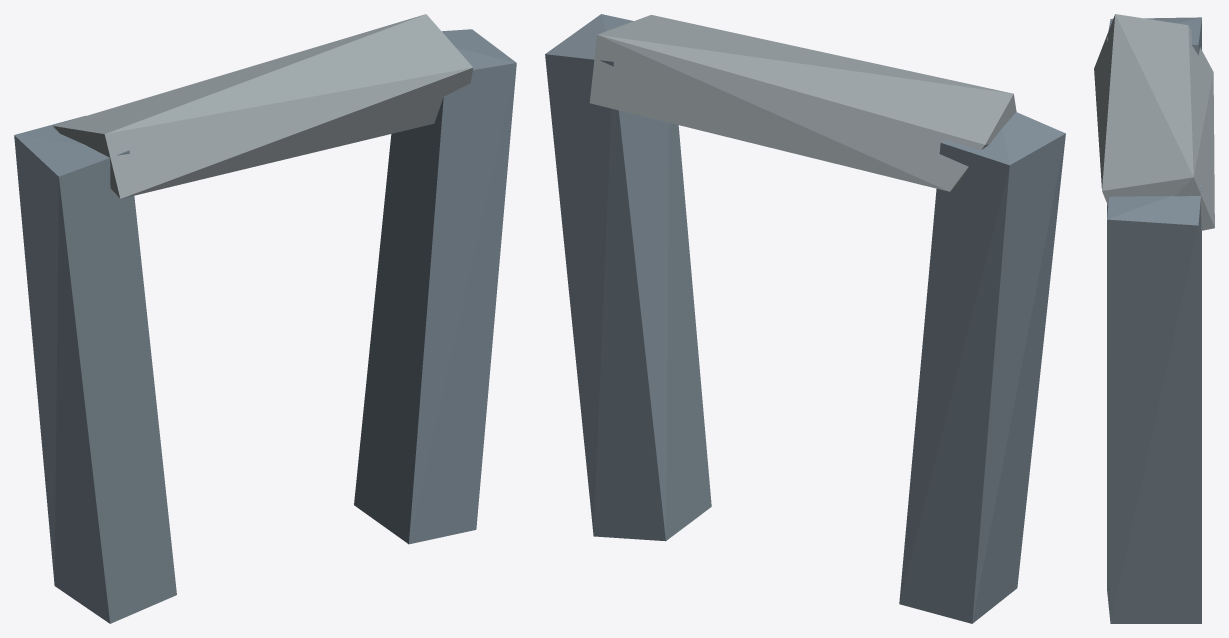
The model's file is Landmark_02_LOD2.fbx.
The picture shows the model from 3 angles, left to right: view 1: azimuth 30°, elevation 25°; view 2: azimuth 150°, elevation 25°; view 3: azimuth 270°, elevation 25°; orthographic projection. The views are drawn at different scales.
Visible parts, largest first — view 1: Landmark_02_LOD2; view 2: Landmark_02_LOD2; view 3: Landmark_02_LOD2.
Part boxes in pixels (x1,y1,x2,y2): Landmark_02_LOD2: (14,14,516,623); Landmark_02_LOD2: (545,14,1065,623); Landmark_02_LOD2: (1094,14,1214,623).
Bounding box in the file's own units: 336 × 339 × 83.1.
